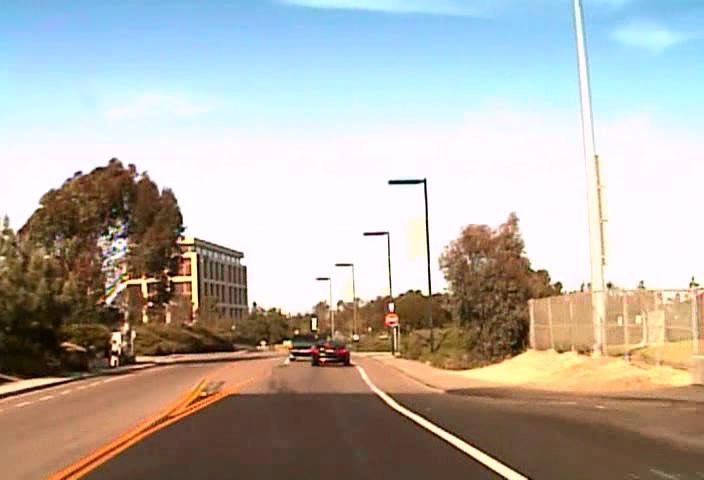stop: (385, 312, 398, 325)
